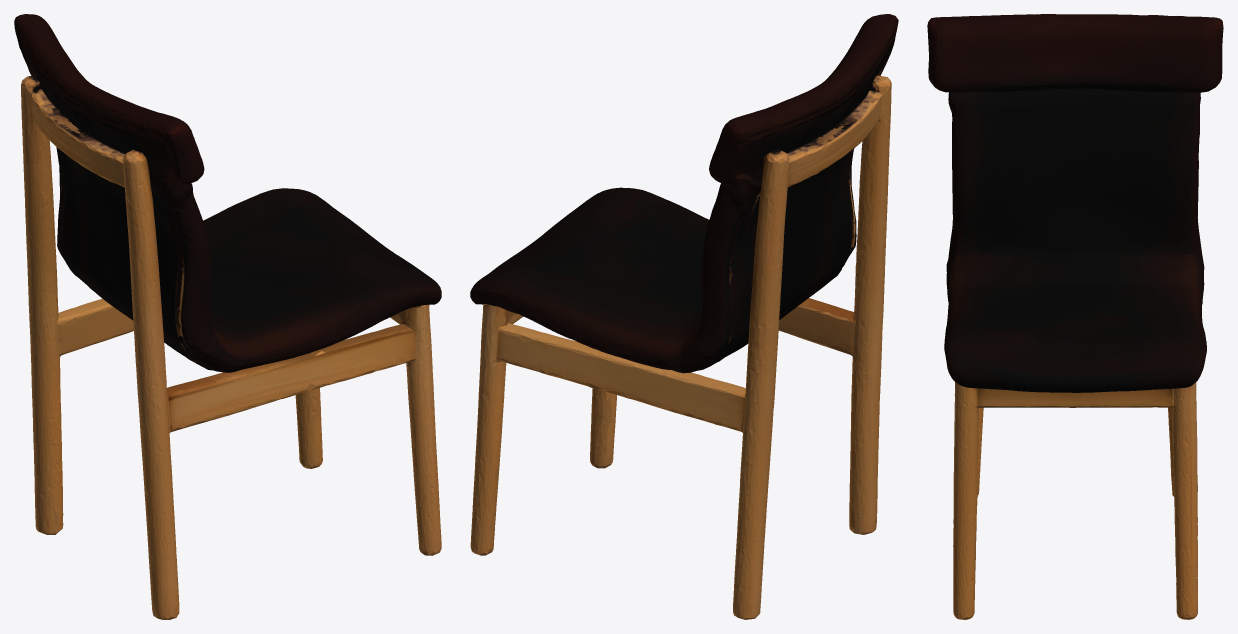
The model's file is hunyuan3d_textured.obj.
3 views of the same model, side by side, from view 1: azimuth 30°, elevation 25°; view 2: azimuth 150°, elevation 25°; view 3: azimuth 270°, elevation 25° (orthographic). The views are drawn at different scales.
Parts seen in each view (by area): view 1: hunyuan3d_textured; view 2: hunyuan3d_textured; view 3: hunyuan3d_textured.
Boxes of the visible parts, bbox=[...] form: hunyuan3d_textured: bbox=[14, 14, 441, 619]; hunyuan3d_textured: bbox=[470, 14, 898, 619]; hunyuan3d_textured: bbox=[927, 14, 1223, 619].
Size of the model in its own units: 1.32 by 2 by 1.13.
1 material, 1 textured.
